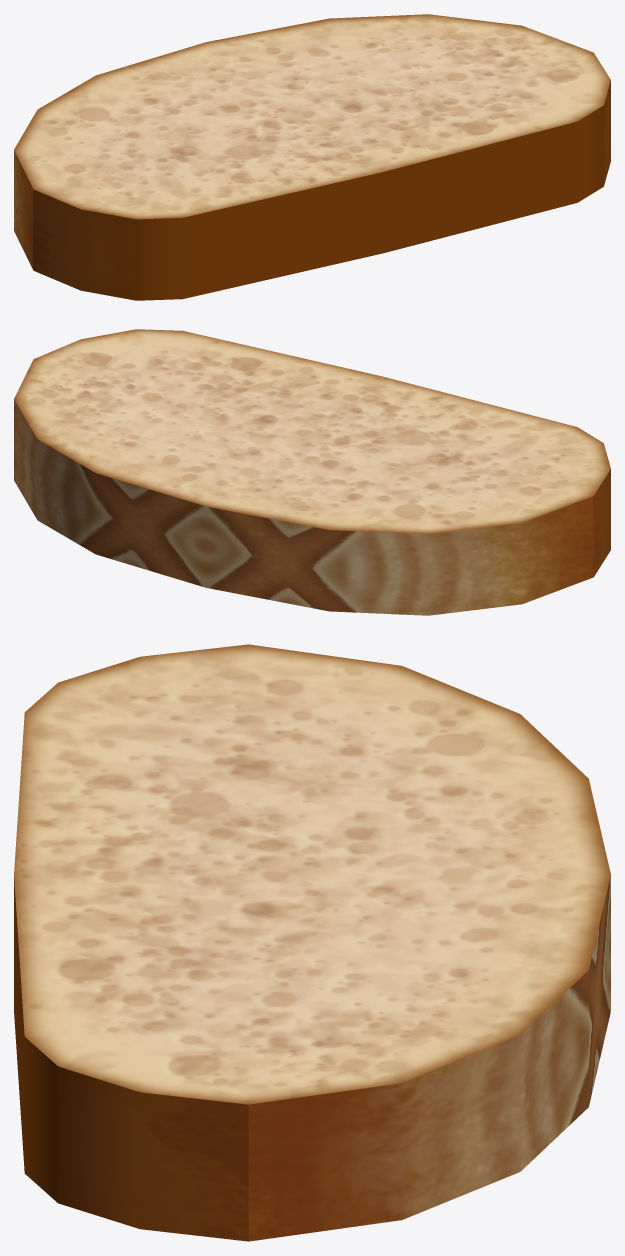
Rendered from Sourdough_Slice.fbx.
3 renders of one model, top to bottom at view 1: azimuth 30°, elevation 25°; view 2: azimuth 150°, elevation 25°; view 3: azimuth 270°, elevation 25°, orthographic. The views are drawn at different scales.
Visible parts, largest first — view 1: Sourdough_Slice; view 2: Sourdough_Slice; view 3: Sourdough_Slice.
Part boxes in pixels (x1,y1,x2,y2): Sourdough_Slice: (14, 14, 610, 300); Sourdough_Slice: (14, 329, 610, 615); Sourdough_Slice: (14, 644, 610, 1241).
Bounding box in the file's own units: 65.15 × 9.04 × 35.71.
